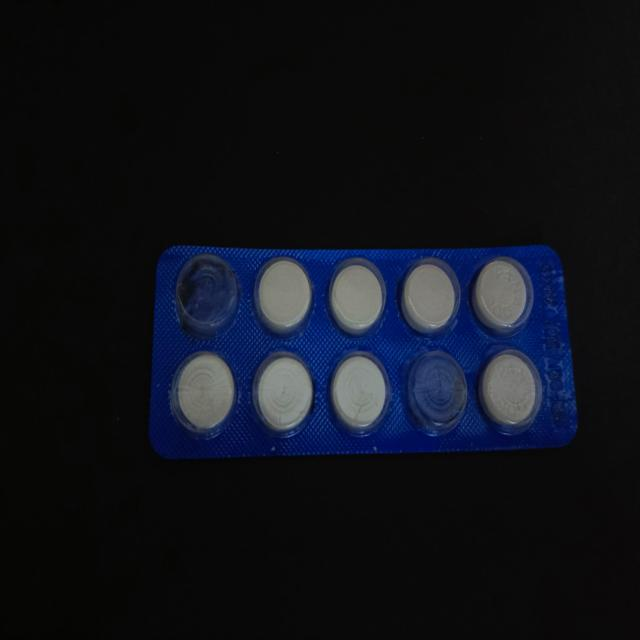defect: (406, 344, 472, 444), (169, 252, 244, 338)
